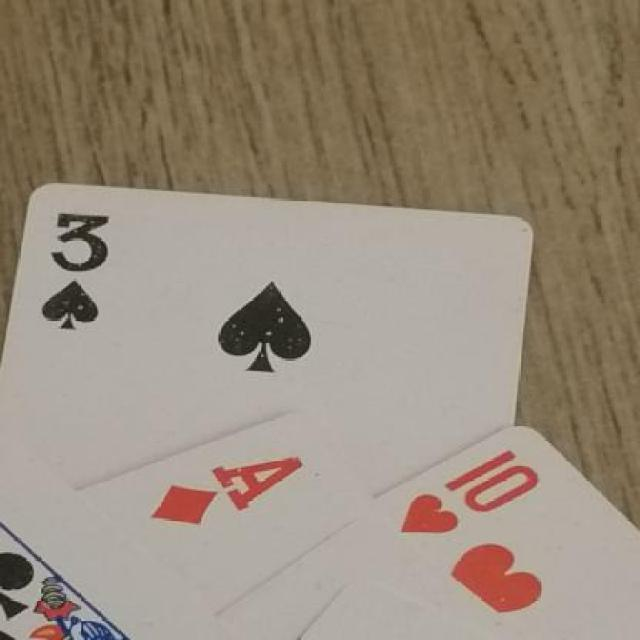10H: (393, 452, 552, 560)
3S: (17, 193, 152, 370)
AD: (121, 448, 328, 544)
